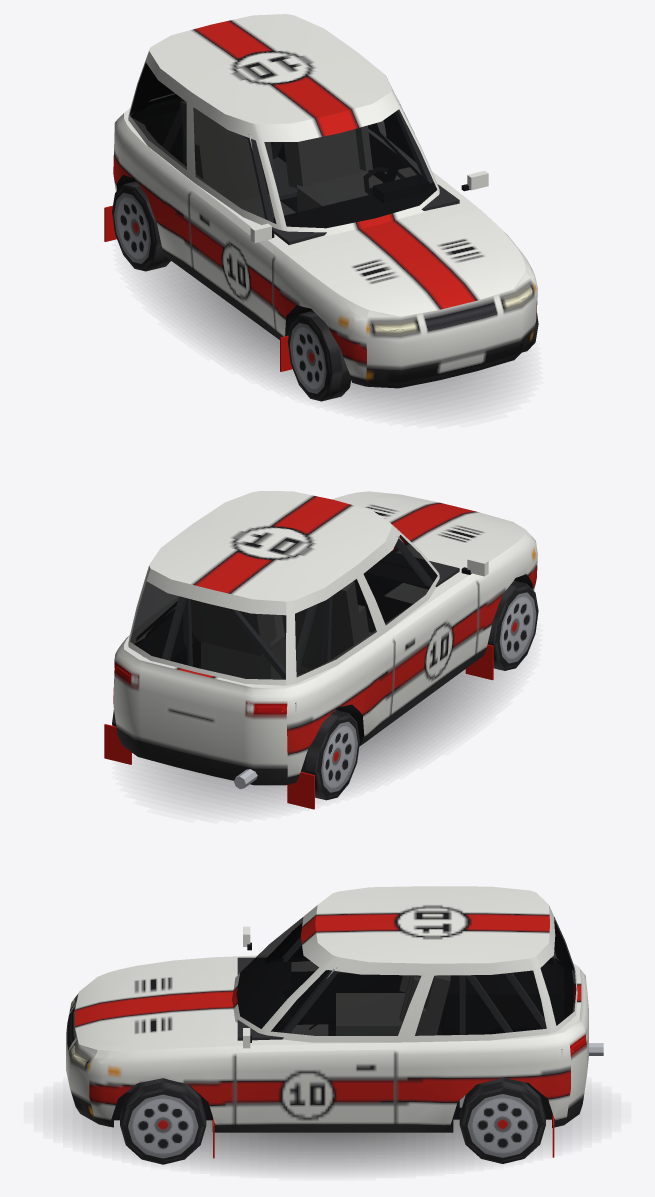
Rendered from xodo.glb.
3 views of the same model, one above another, from view 1: azimuth 30°, elevation 25°; view 2: azimuth 150°, elevation 25°; view 3: azimuth 270°, elevation 25° (orthographic). The views are drawn at different scales.
Parts seen in each view (by area): view 1: Carroceria, Interior, Capo_malha, Porta_D_malha, Sombra, Roda_DD, Roda_TD, Porta_E_malha, Tampa_malha; view 2: Carroceria, Tampa_malha, Interior, Porta_D_malha, Sombra, Capo_malha, Roda_TD, Roda_DD; view 3: Carroceria, Porta_E_malha, Interior, Sombra, Capo_malha, Roda_DE, Roda_TE, Tampa_malha, Porta_D_malha.
Boxes of the visible parts, bbox=[...] form: Carroceria: bbox=[104, 14, 537, 388]; Interior: bbox=[133, 98, 459, 244]; Capo_malha: bbox=[296, 211, 531, 318]; Porta_D_malha: bbox=[189, 105, 281, 329]; Sombra: bbox=[141, 261, 518, 414]; Roda_DD: bbox=[287, 311, 350, 401]; Roda_TD: bbox=[112, 181, 170, 271]; Porta_E_malha: bbox=[384, 76, 488, 191]; Tampa_malha: bbox=[131, 64, 178, 117]; Carroceria: bbox=[104, 491, 537, 809]; Tampa_malha: bbox=[129, 568, 286, 761]; Interior: bbox=[135, 536, 459, 678]; Porta_D_malha: bbox=[373, 525, 488, 714]; Sombra: bbox=[136, 669, 511, 809]; Capo_malha: bbox=[334, 491, 531, 563]; Roda_TD: bbox=[301, 710, 359, 800]; Roda_DD: bbox=[487, 580, 538, 670]; Carroceria: bbox=[66, 886, 603, 1158]; Porta_E_malha: bbox=[234, 956, 395, 1124]; Interior: bbox=[126, 933, 572, 1107]; Sombra: bbox=[63, 1098, 591, 1171]; Capo_malha: bbox=[81, 960, 216, 1058]; Roda_DE: bbox=[120, 1078, 206, 1164]; Roda_TE: bbox=[459, 1077, 545, 1163]; Tampa_malha: bbox=[536, 905, 588, 1069]; Porta_D_malha: bbox=[243, 924, 303, 960].
Size of the model in its own units: 2.23 by 1.44 by 4.21.
Materials: 13 (5 with a texture image).
